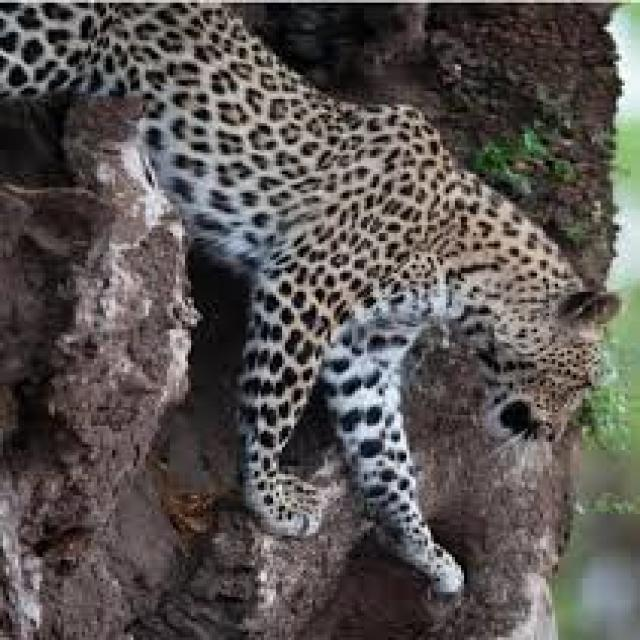Leopard: (0, 0, 607, 588)
